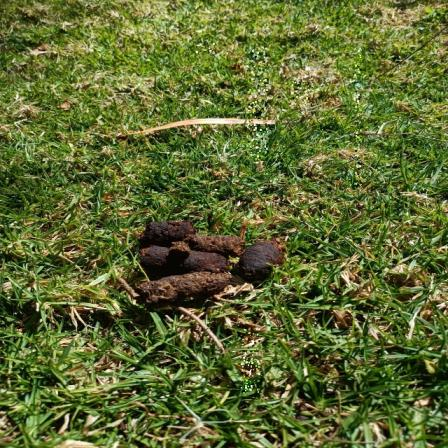dog-poop: (124, 214, 284, 316)
